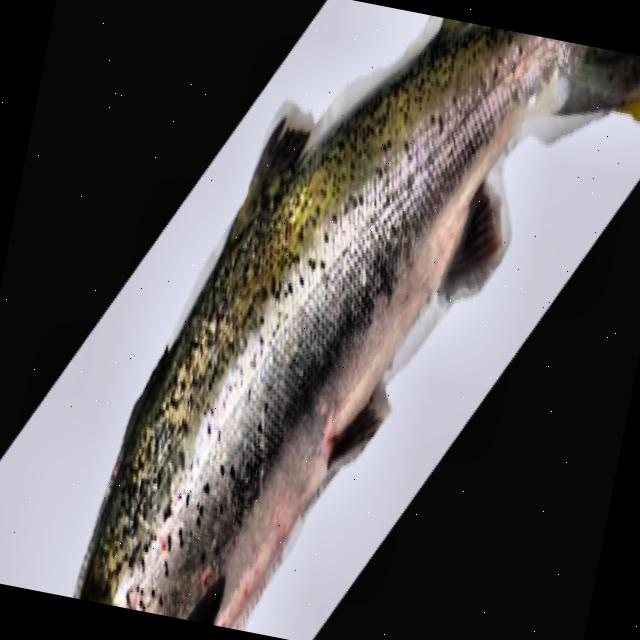mild_red: (75, 18, 578, 624)
